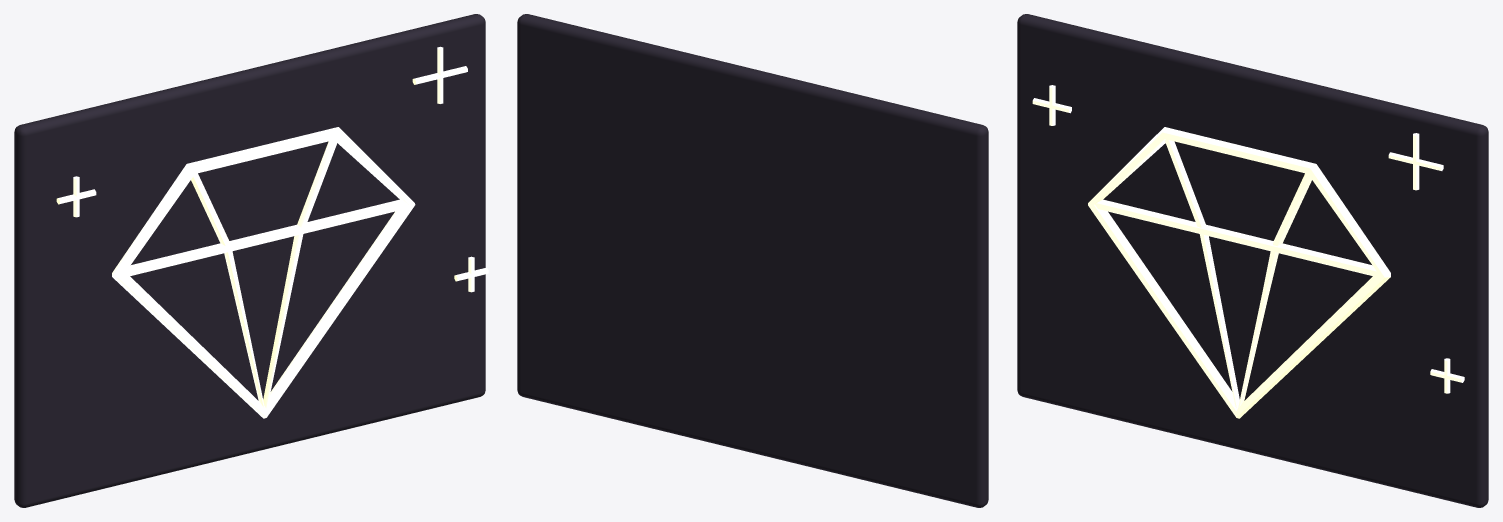
Rendered from sign_gold_diamond.glb.
3 views of the same model, side by side, from view 1: azimuth 30°, elevation 25°; view 2: azimuth 150°, elevation 25°; view 3: azimuth 330°, elevation 25° (orthographic).
Visible parts, largest first — view 1: sign_gold_diamond; view 2: sign_gold_diamond; view 3: sign_gold_diamond.
Part boxes in pixels (x1,y1,x2,y2): sign_gold_diamond: (14,14,488,507); sign_gold_diamond: (517,14,988,507); sign_gold_diamond: (1017,14,1488,507).
Bounding box in the file's own units: 0.9 × 0.7 × 0.0704.
